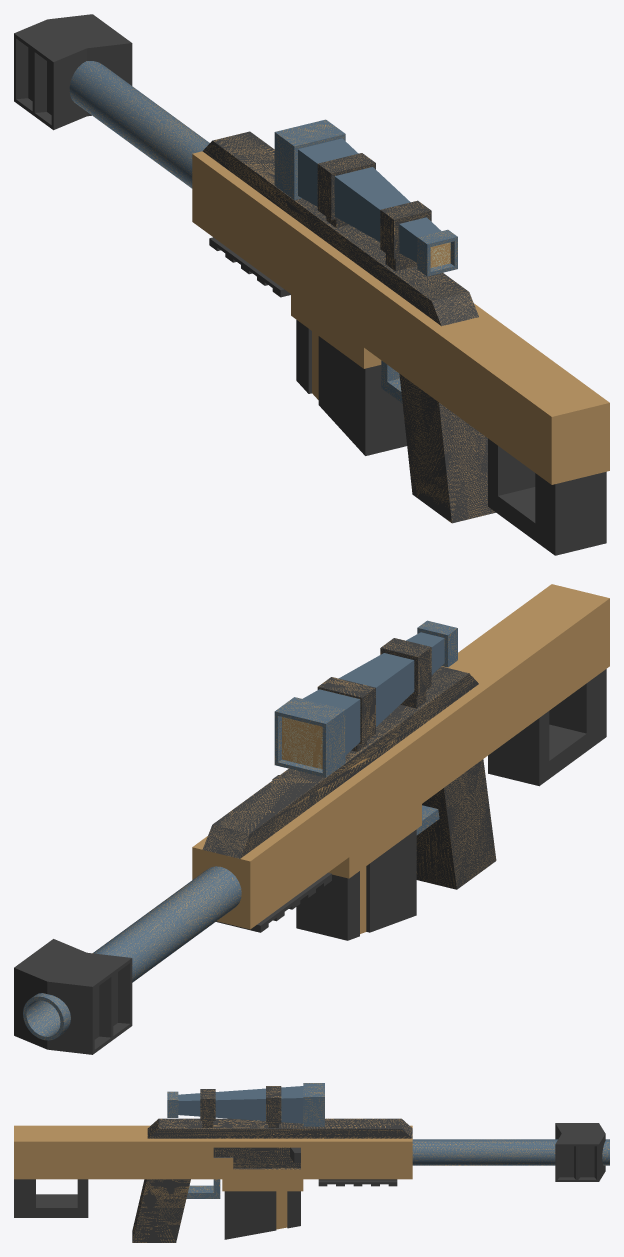
The model's file is sniperSand.dae.
3 views of the same model, one above another, from view 1: azimuth 30°, elevation 25°; view 2: azimuth 150°, elevation 25°; view 3: azimuth 270°, elevation 25° (orthographic). The views are drawn at different scales.
Parts seen in each view (by area): view 1: Group (×3); view 2: Group (×3); view 3: Group (×3).
Part boxes in pixels (bbox=[...]): Group (×3): bbox=[14, 14, 609, 555]; Group (×3): bbox=[14, 584, 609, 1054]; Group (×3): bbox=[14, 1083, 609, 1242].
Bounding box in the file's own units: 0.0995 × 0.2833 × 1.04.
